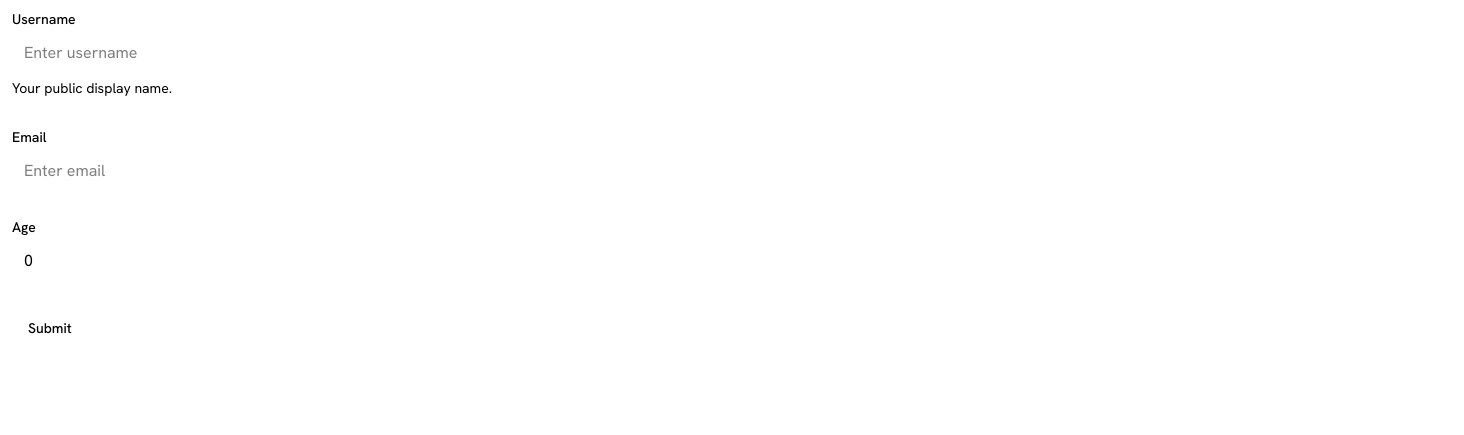
Test case: Form Component › Validation › should show validation error for username less than 3 characters
The width and height of the screenshot is (1464, 435).
Type "ab" into the field with placeholder "Enter username".
click(732, 52); type("ab")  # box x1=12 y1=34 x2=1452 y2=70
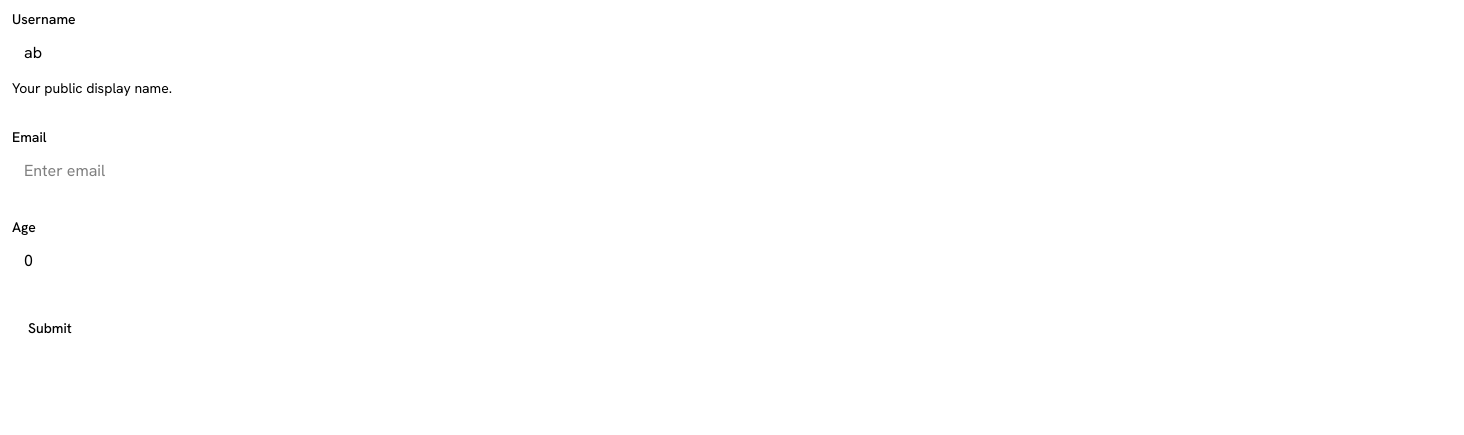
Click the button "Submit".
click(50, 328)  # box x1=12 y1=310 x2=88 y2=346
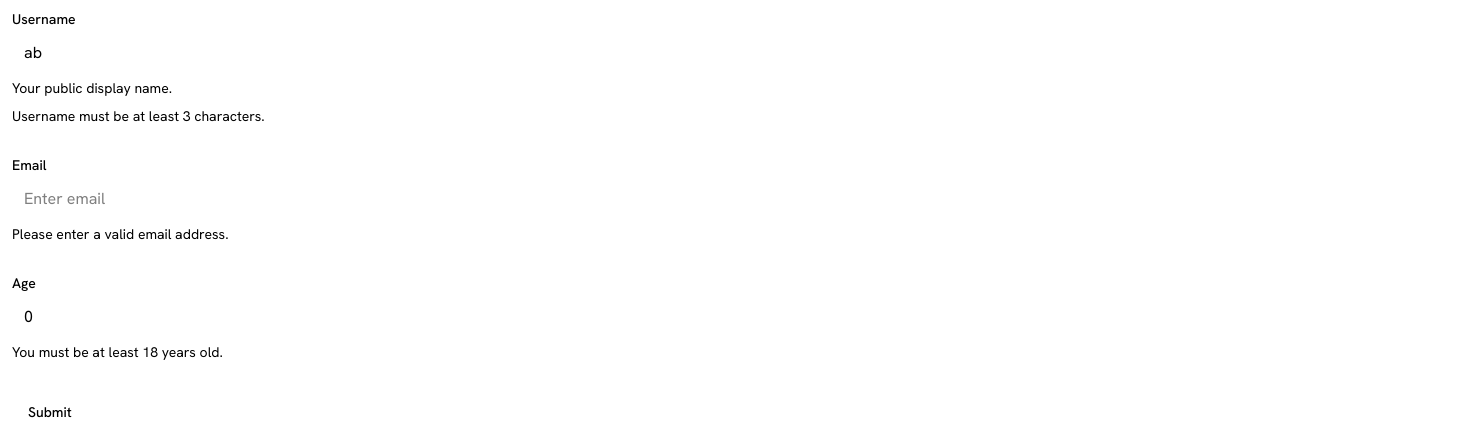
Now the text "Username must be at least 3 characters." is shown, box x1=12 y1=107 x2=265 y2=125
